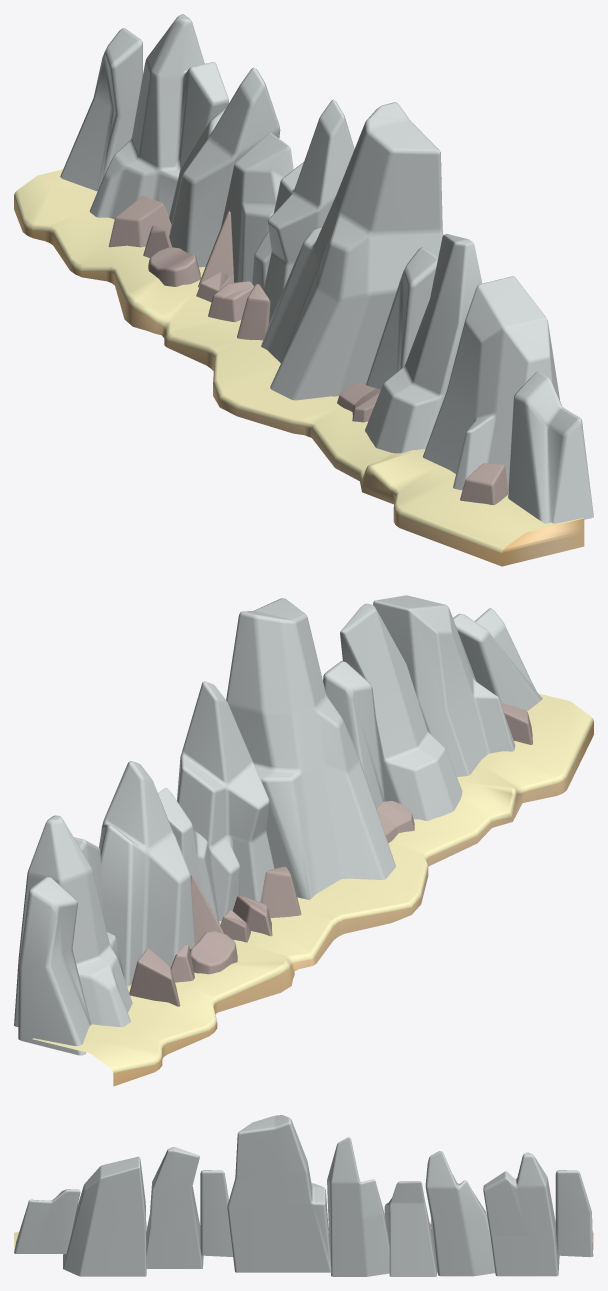
3 renders of one model, top to bottom at view 1: azimuth 30°, elevation 25°; view 2: azimuth 150°, elevation 25°; view 3: azimuth 270°, elevation 25°, orthographic. The views are drawn at different scales.
Parts seen in each view (by area): view 1: BG_02; view 2: BG_02; view 3: BG_02.
Part boxes in pixels (x1=…): BG_02: x1=14, y1=14, x2=593, y2=566; BG_02: x1=14, y1=595, x2=593, y2=1086; BG_02: x1=14, y1=1115, x2=593, y2=1276.
Bounding box in the file's own units: 8297 × 11595 × 38811.
